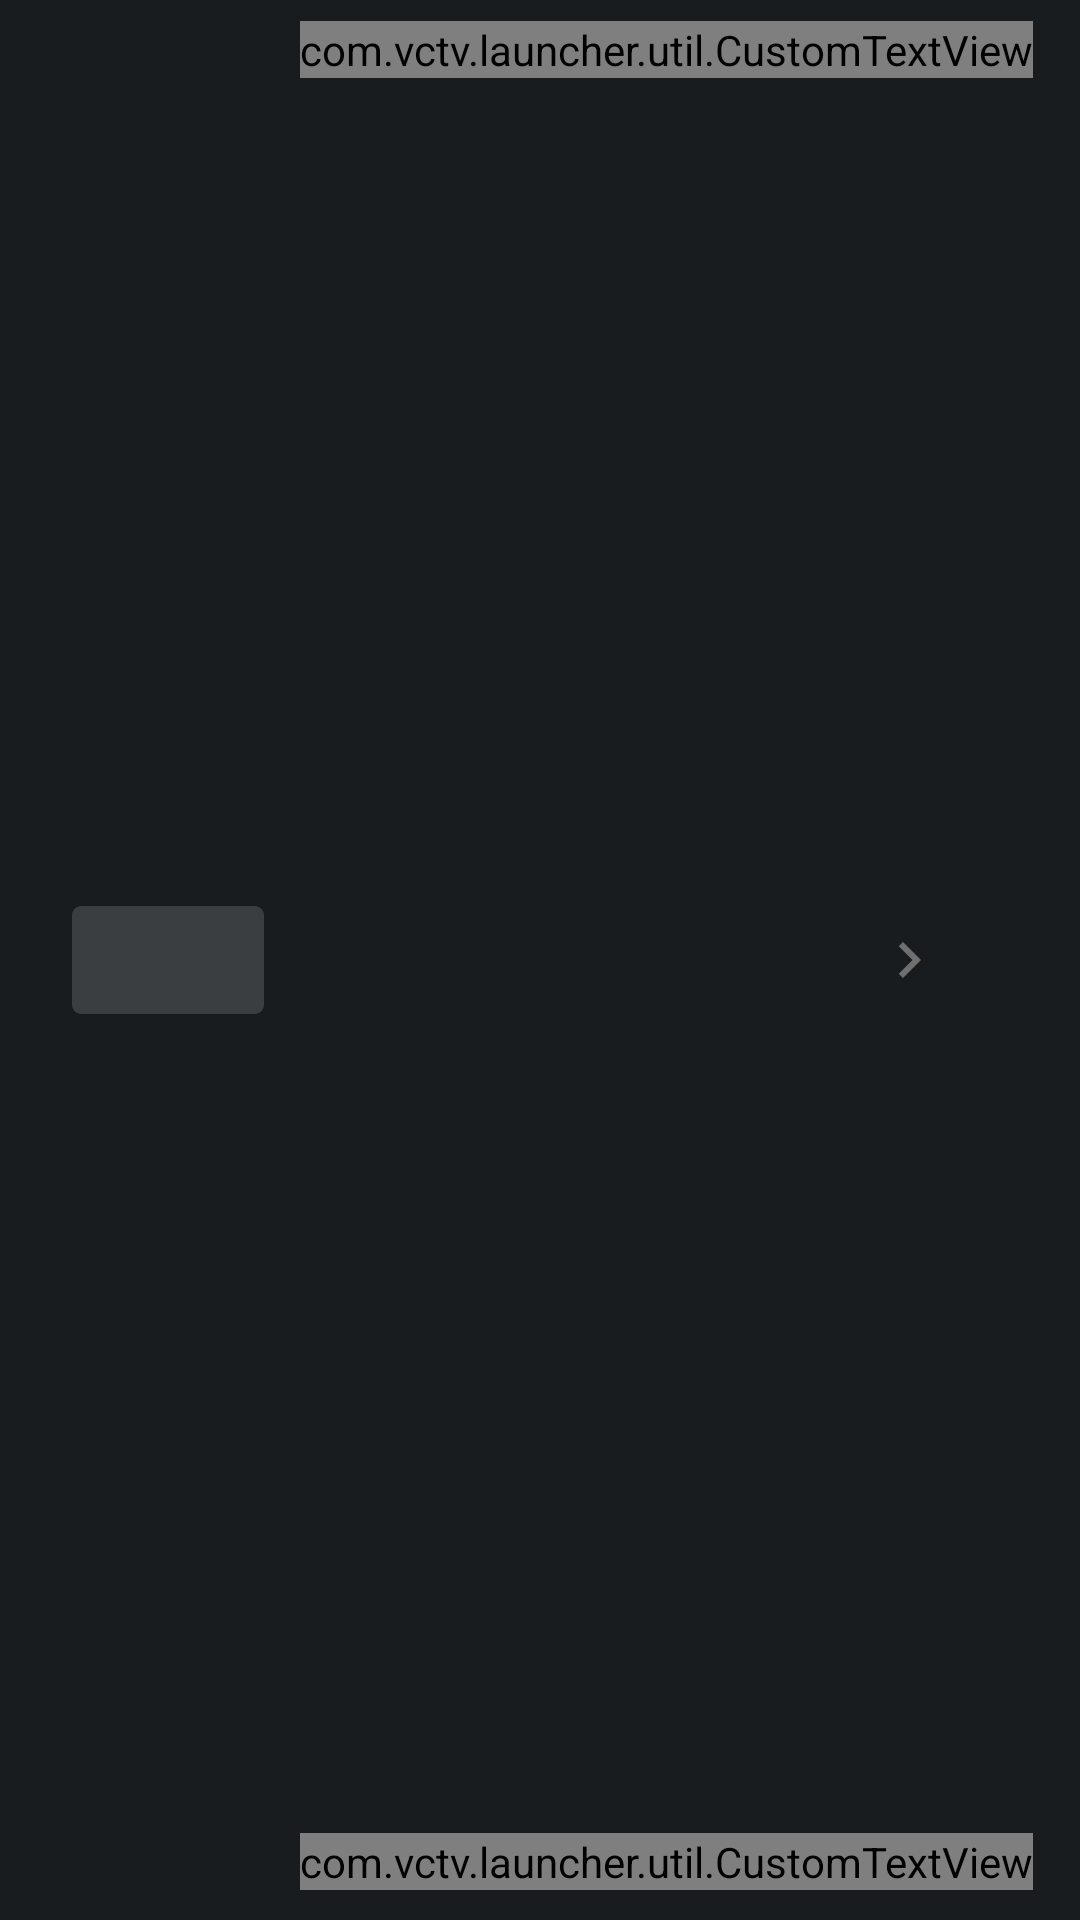

Icons on this 1080w x 1920h Android screen, each with the point to tap as point (x, y):
chevron right: point (910, 960)
